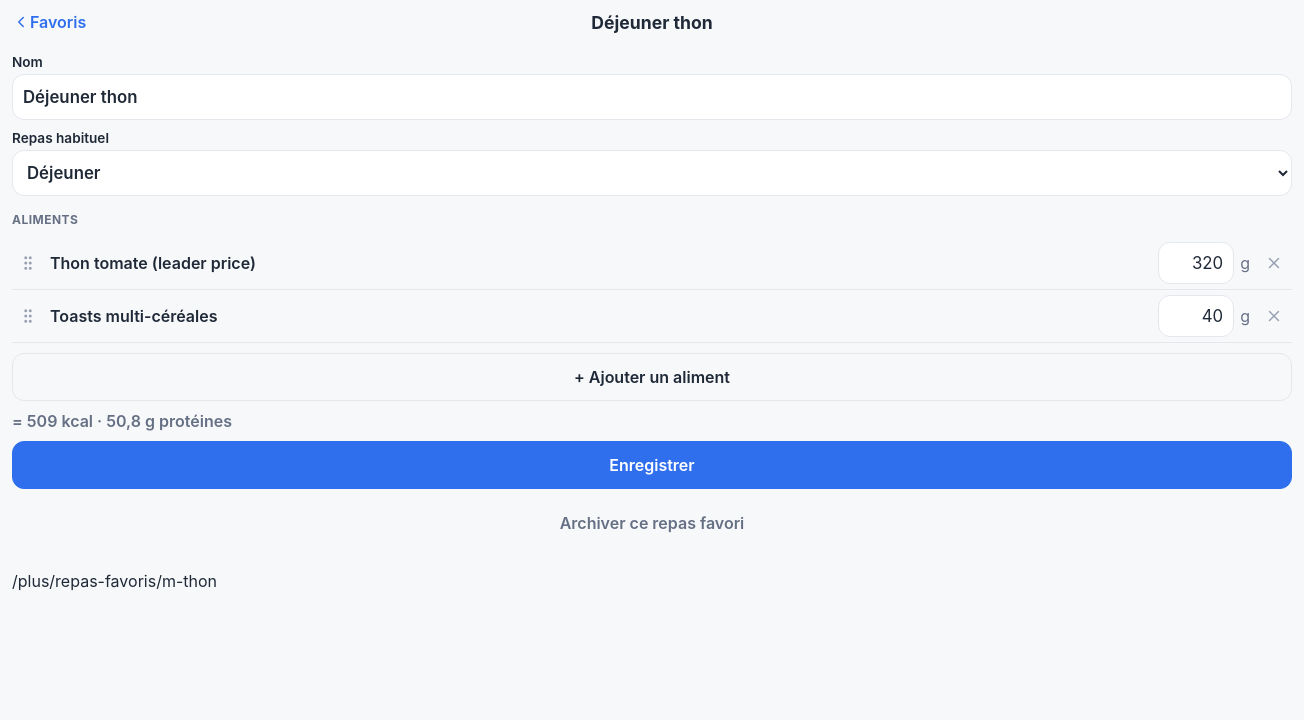
it: création et modification › modifier : nom, repas habituel, quantité, retrait d'un aliment ; nom vide refusé
Expected: the heading "Déjeuner thon" is shown, [591,12,713,32]
Clear the field named "Nom du repas favori" at (652, 97), box [12,74,1292,120]
Click the button "Enregistrer".
click(652, 465)  # box [12,441,1292,489]
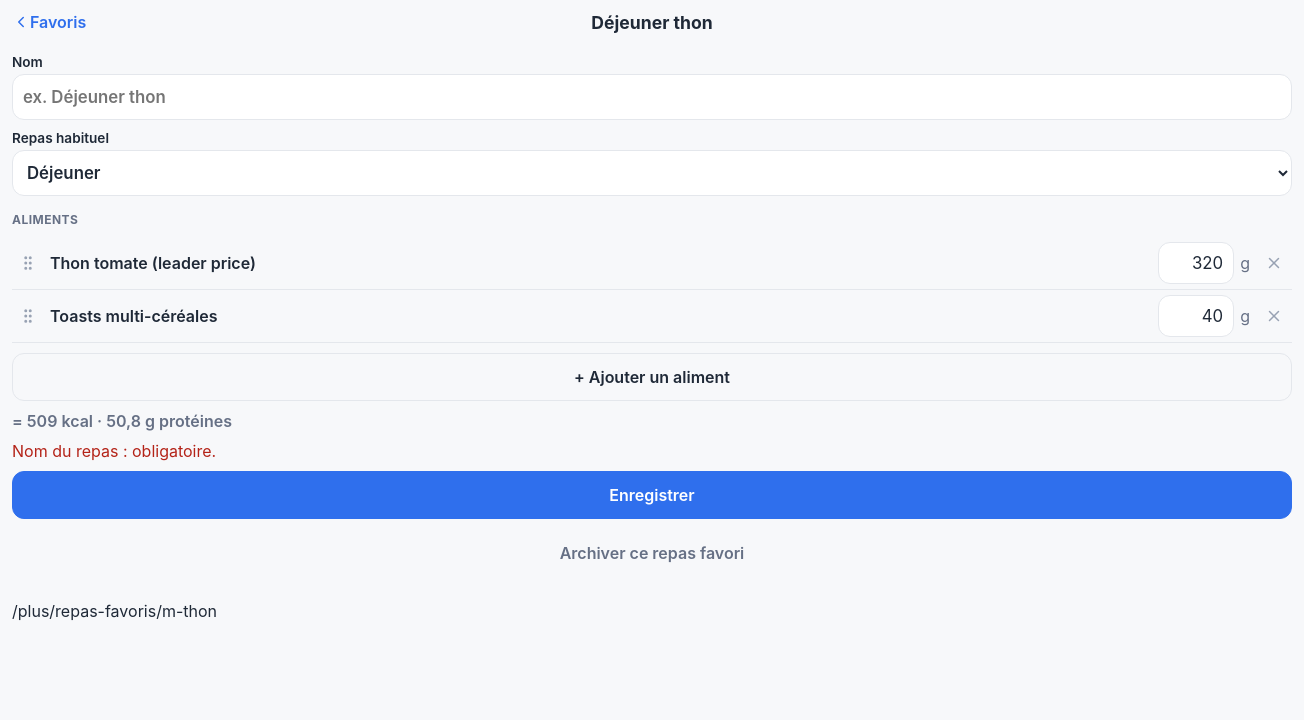
Result: the message reads "Nom du repas : obligatoire." at [12,441,216,461]
Type "Midi thon" into the field named "Nom du repas favori".
click(652, 97); type("Midi thon")  # box [12,74,1292,120]
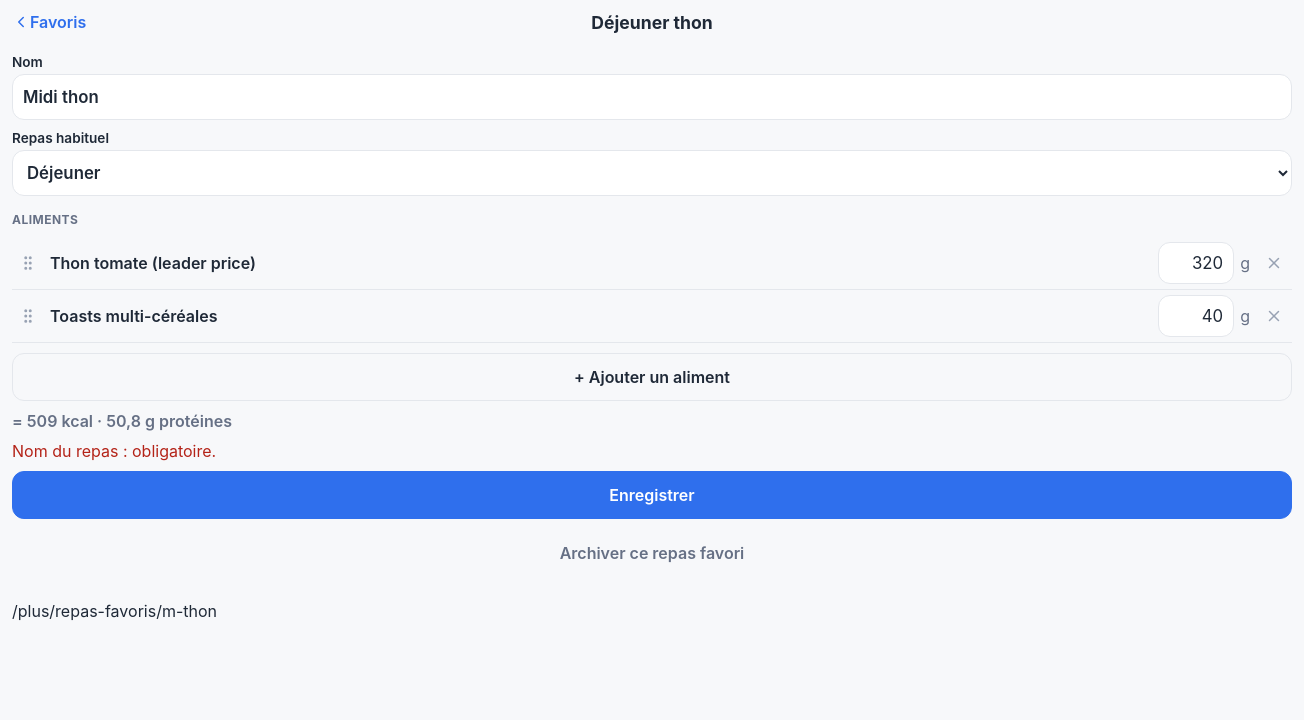
Select "Aucun" in the dropdown labelled "Repas habituel" at (652, 173), box [12,150,1292,196]
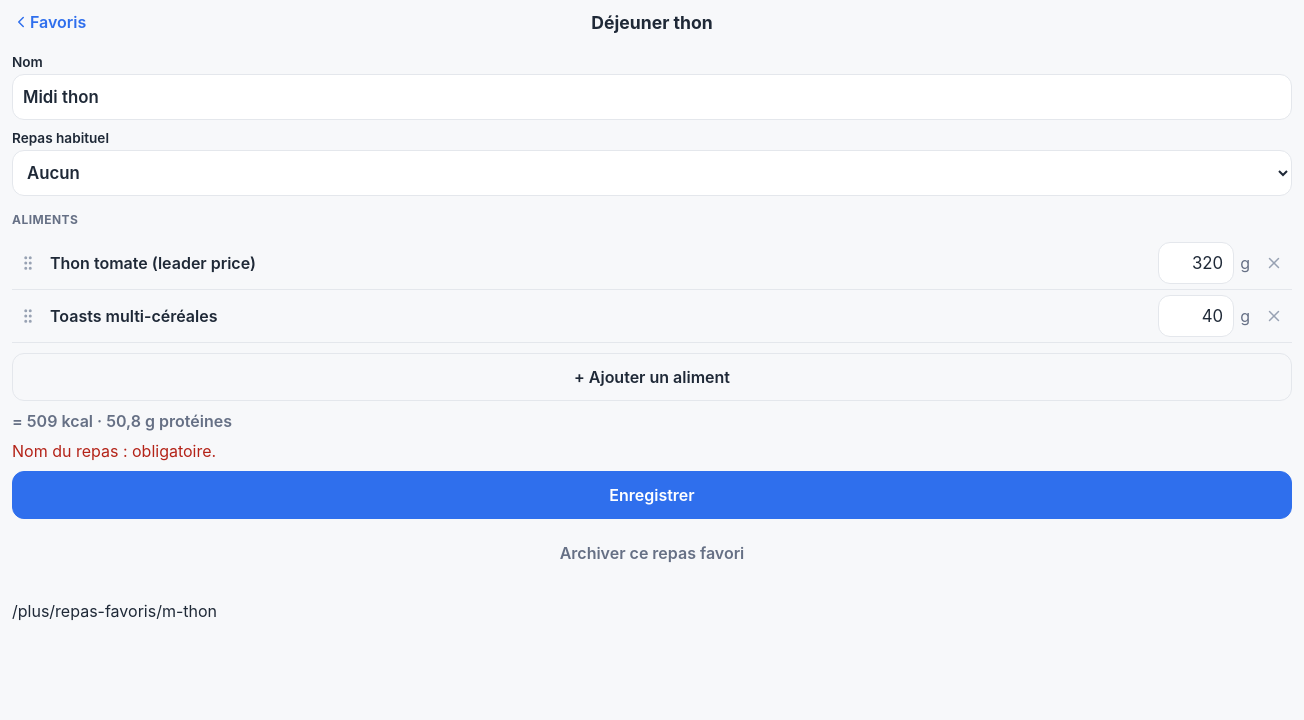
Replace the text in the field named "Quantité : Thon tomate (leader price)" with "160" at (1196, 263), box [1158,242,1234,284]
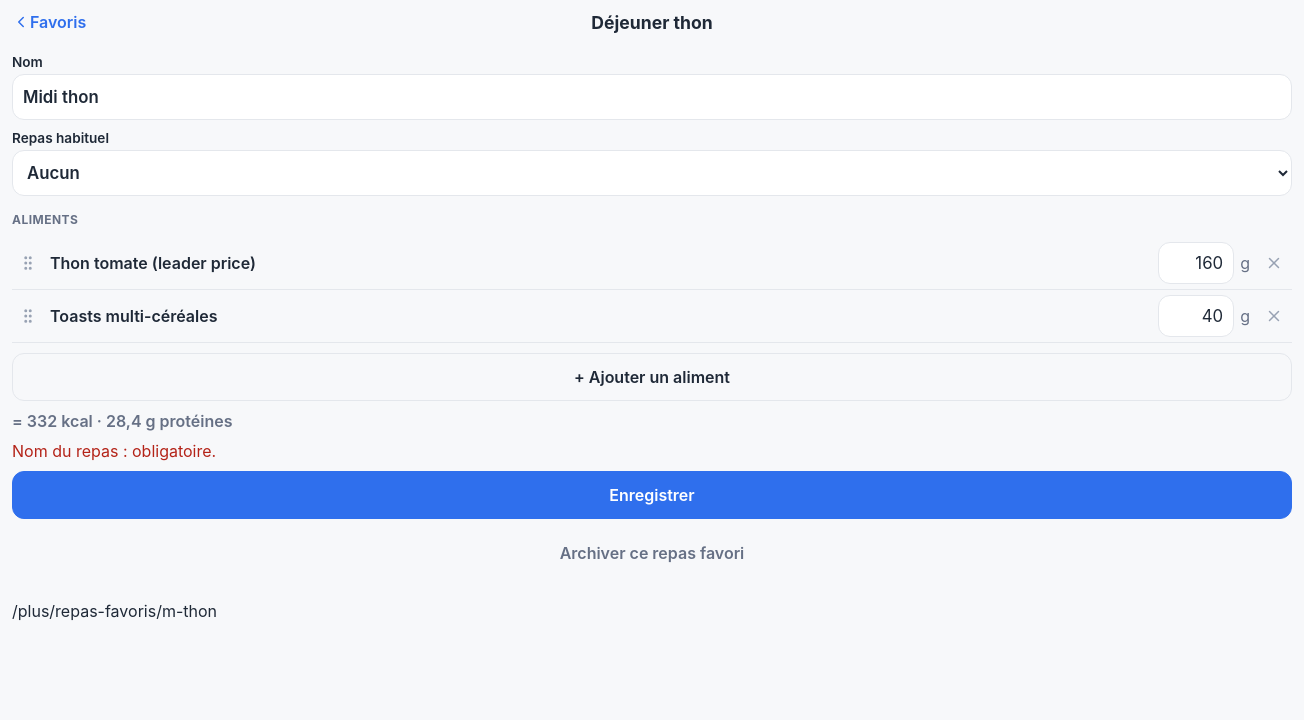
Click the button named "Retirer : Toasts multi-céréales".
click(1274, 316)  # box [1256,294,1292,338]
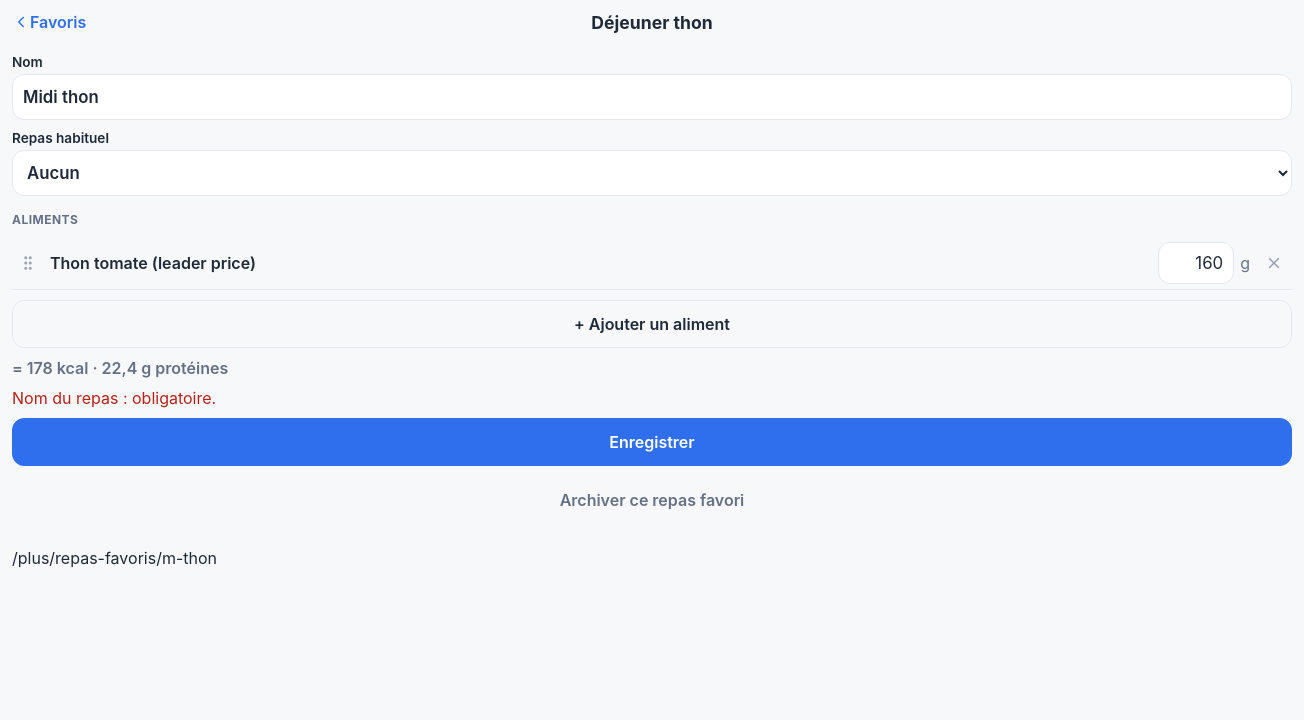
Click the button "Enregistrer".
click(652, 442)  # box [12,418,1292,466]
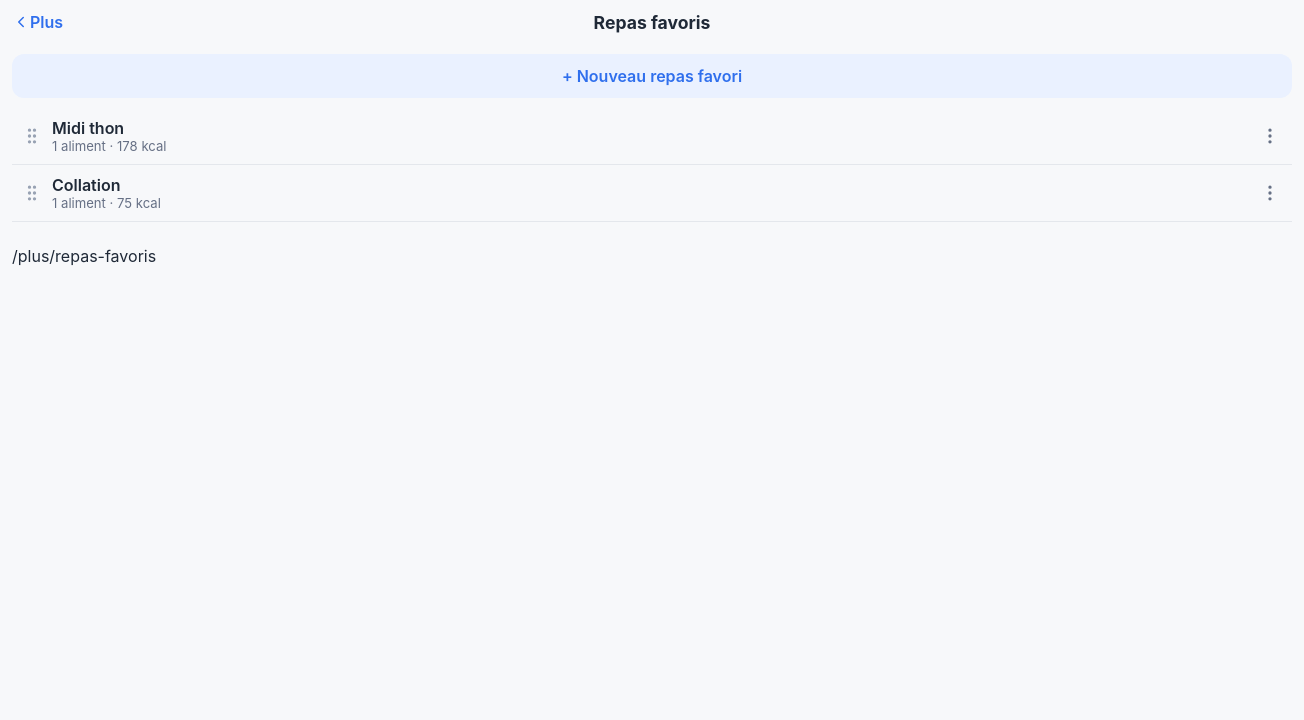
Result: the text with test id "url" reads "/plus/repas-favoris" at [12,246,156,266]
Result: the text "Midi thon" is shown at [52,118,124,138]
